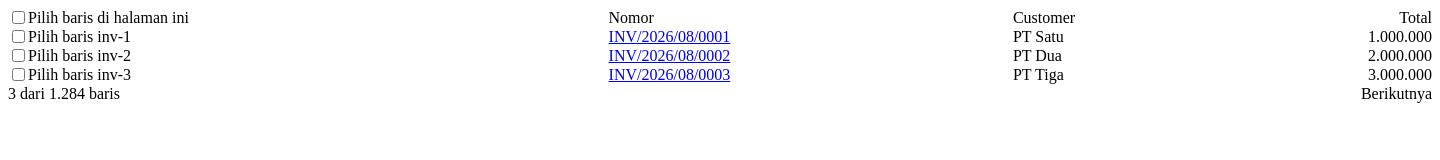
it: checkbox header hanya memilih halaman ini, dan menawarkan seluruh hasil terpisah
The image size is (1440, 160).
Click the checkbox labelled "Pilih baris di halaman ini" at [18, 18], box [12,11,25,24]
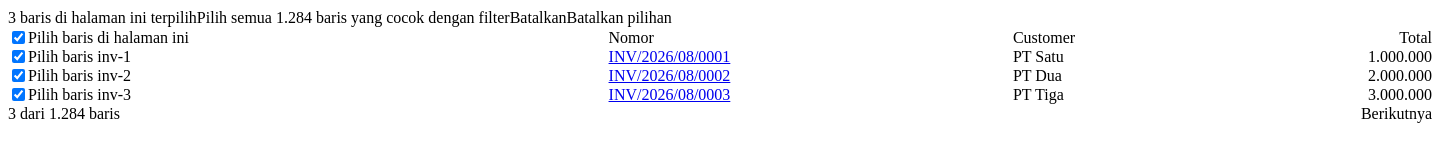
Expected: the text "3 baris di halaman ini terpilih" is shown, [8,9,197,27]
Click the button "Pilih semua 1.284 baris yang cocok dengan filter" at [353, 18], box [197,8,510,28]
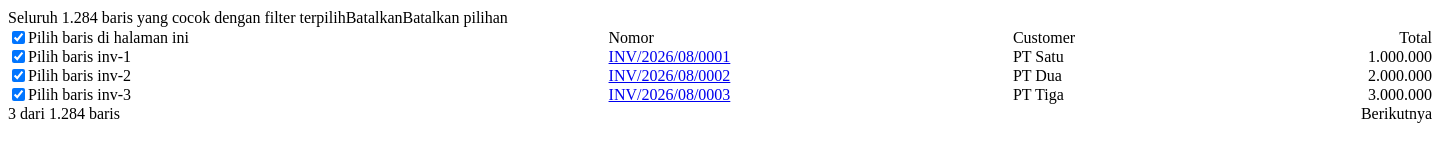
Expected: the text "Seluruh 1.284 baris yang cocok dengan filter terpilih" is shown, [8,9,346,27]
